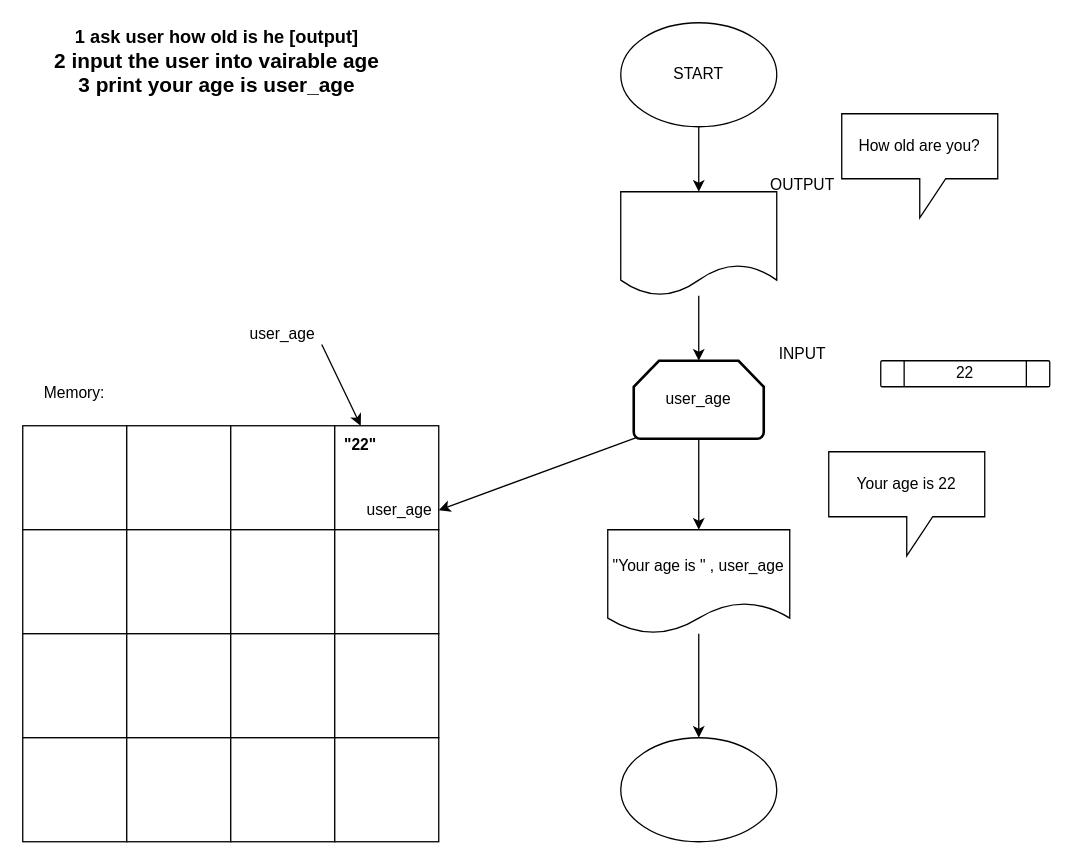
Image size: 1073x864. Some labels were removed from this diagram. The box of each missing label's shape, as (x1, y1, x2, y2) in pixels:
"How old are you?": (619, 190, 777, 296)
STOP: (619, 736, 777, 842)
